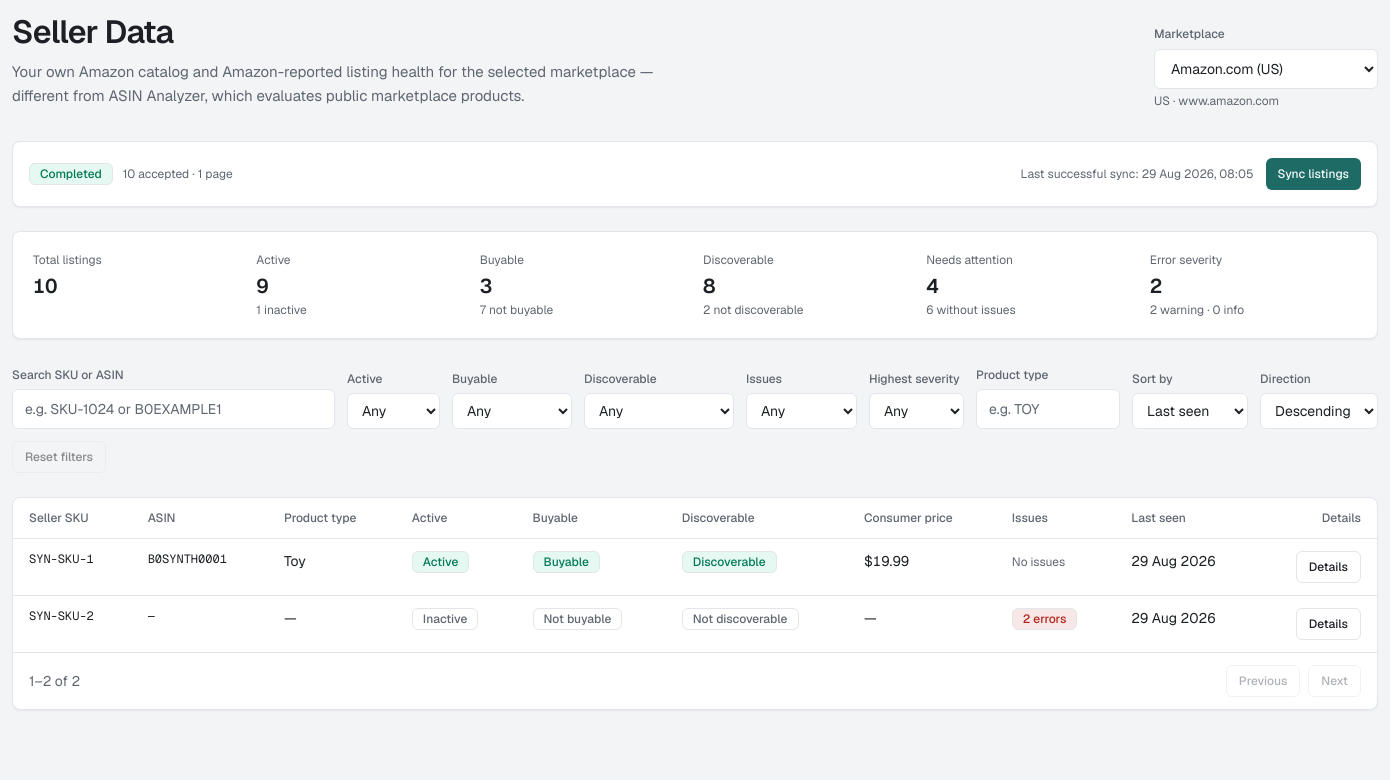
Sync listings action › queues a job, shows the Queued button label, and shows no active-work spinner
expect the text "SYN-SKU-1" is shown: met, box [13,539,132,596]
Click the button "Sync listings" at (1313, 174), box [1266,158,1361,190]
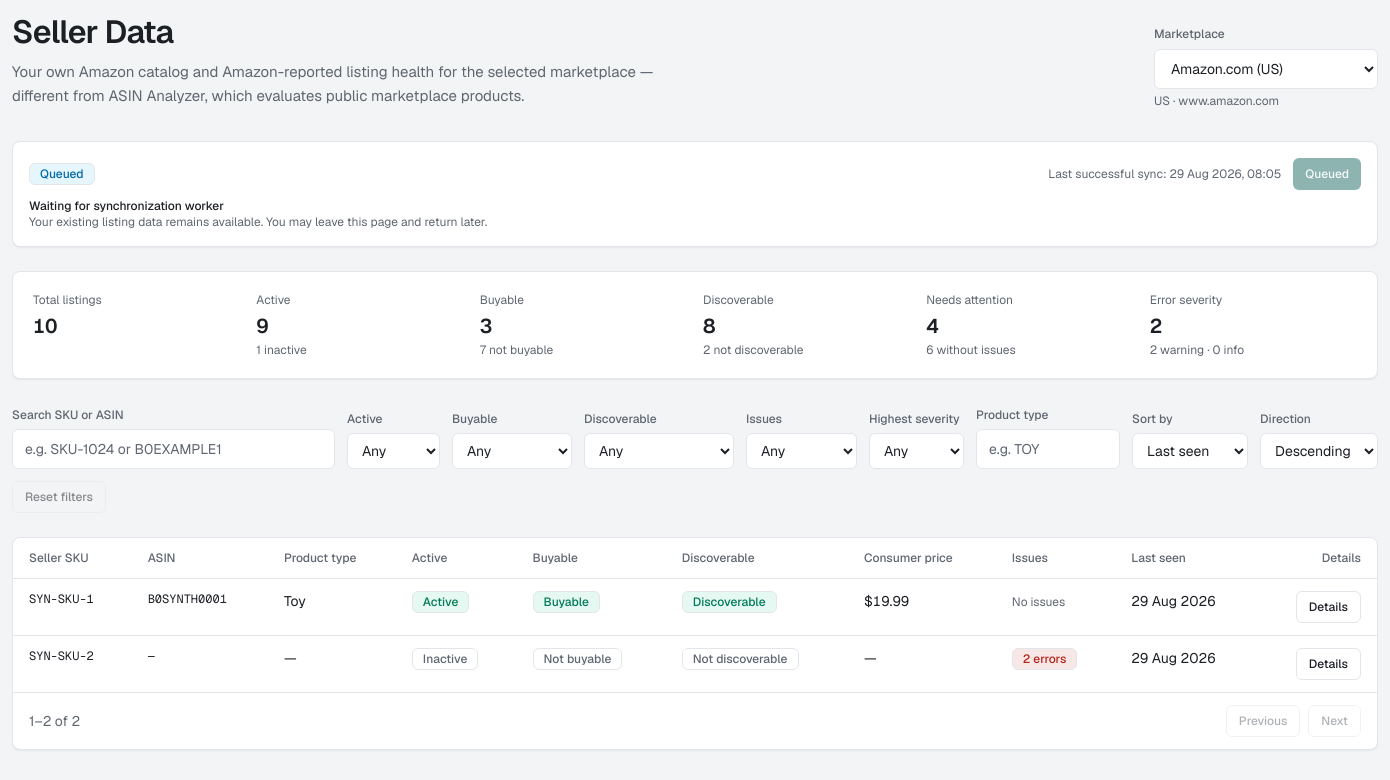
expect the button "Queued" is disabled: met, box [1293,158,1361,190]
expect the text "Waiting for synchronization worker" is shown: met, box [29,198,224,214]
expect the text "you may leave this page and return later" is shown: met, box [29,214,487,230]
